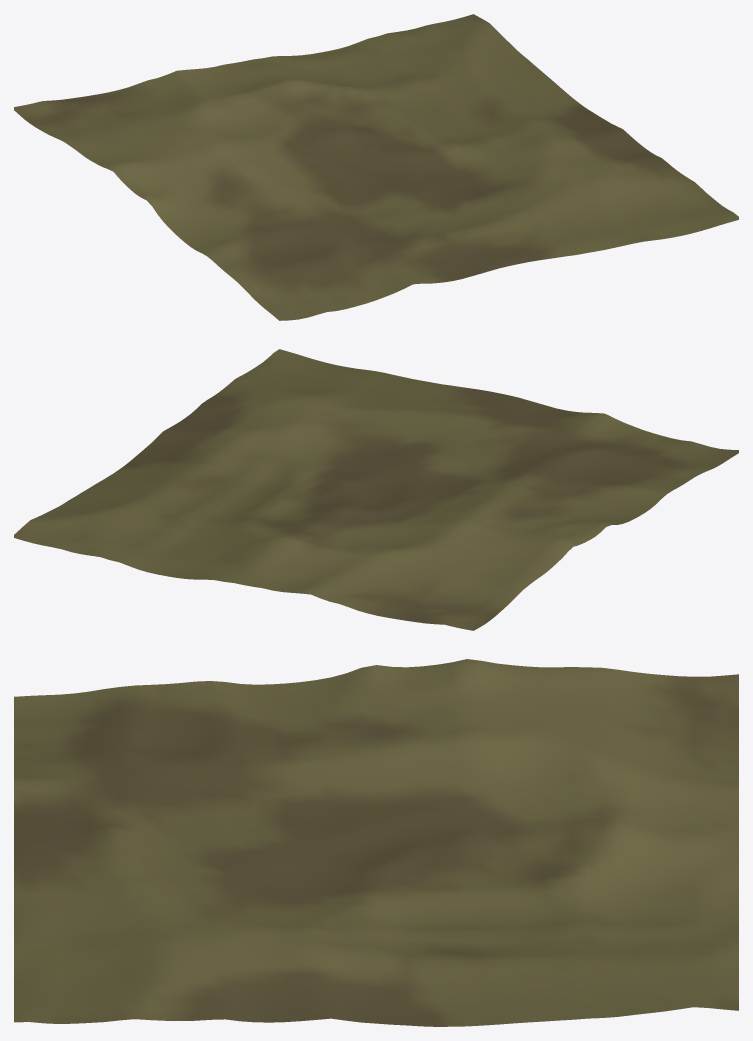
File: land_m_01_04.glb
3 renders of one model, top to bottom at view 1: azimuth 30°, elevation 25°; view 2: azimuth 150°, elevation 25°; view 3: azimuth 270°, elevation 25°, orthographic. The views are drawn at different scales.
Parts seen in each view (by area): view 1: land_m_01_04; view 2: land_m_01_04; view 3: land_m_01_04.
Boxes of the visible parts, x1=… form: land_m_01_04: x1=14, y1=14, x2=738, y2=320; land_m_01_04: x1=14, y1=349, x2=738, y2=630; land_m_01_04: x1=14, y1=659, x2=738, y2=1026.
Size of the model in its own units: 960 by 92.21 by 960.
